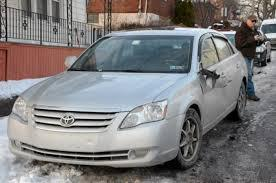Sidemirror-Damage: (198, 67, 231, 87)
bonnet-dent: (39, 71, 168, 104)
front-bumper-dent: (102, 134, 173, 166)
